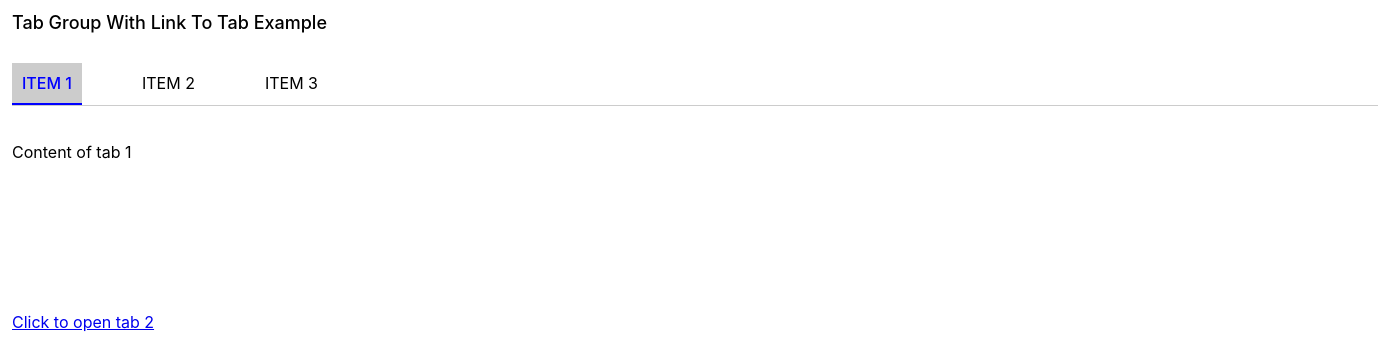
Test case: TabGroupWithLink › Content correct and when click the link, tab 2 will be selected & its content wil be shown
Expected: the tab "ITEM 1" is shown, [12,63,82,105]
Expected: the tab "ITEM 2" is shown, [142,73,195,93]
# when click the link tab 2 will be selected, and its content shown
Click the link "Click to open tab 2" at (83, 322), box [12,312,154,332]
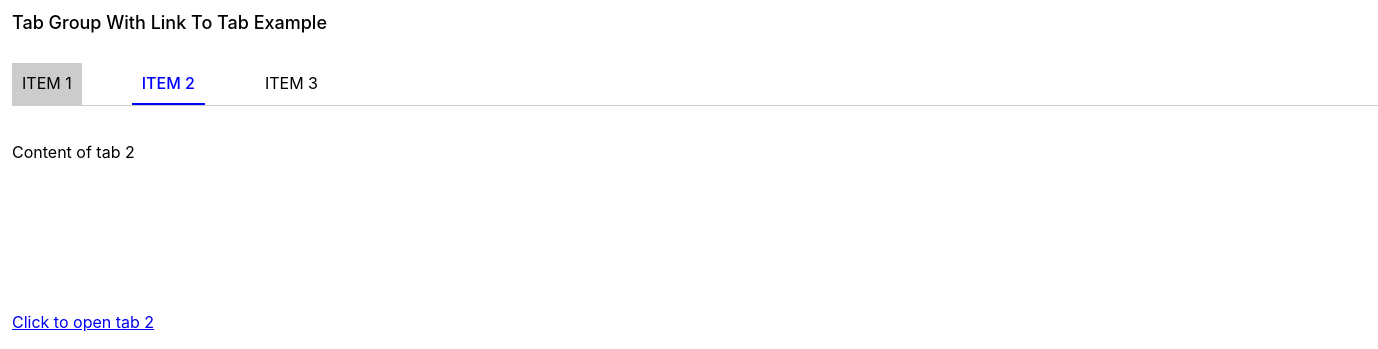
Now the text "Content of tab 2" is shown, box [12,142,135,162]
